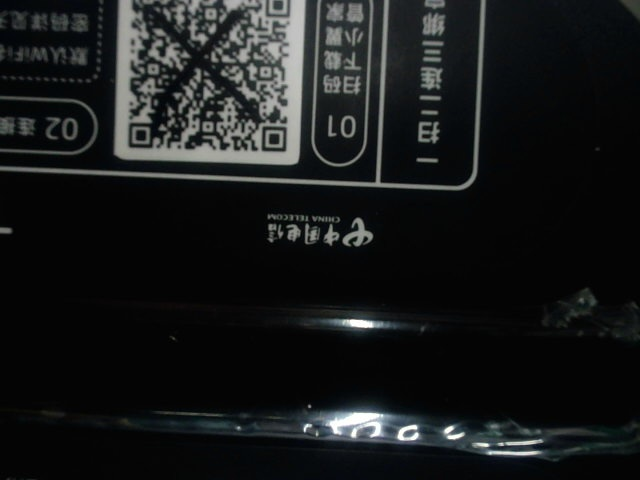AB_ChinaTelecom: (261, 203, 381, 252)
